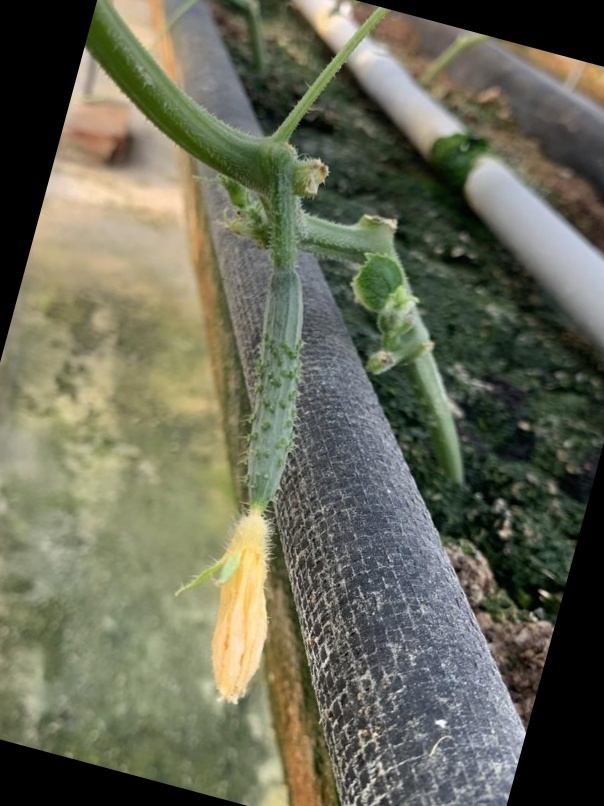bear: (168, 255, 330, 719)
